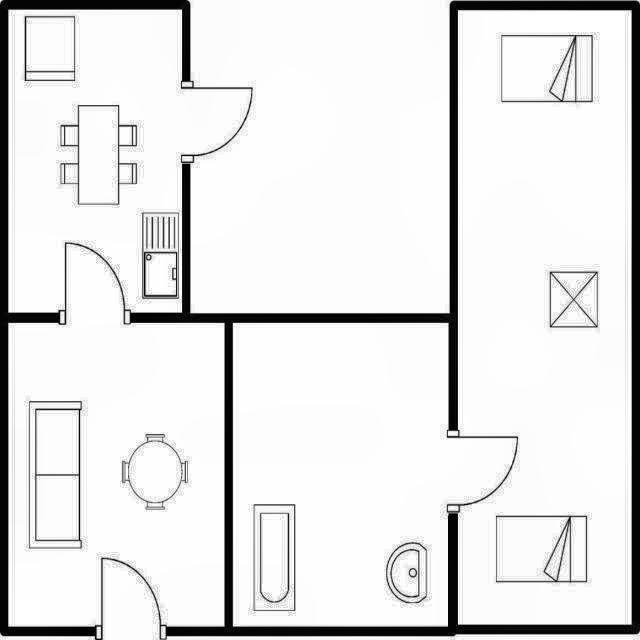room: (458, 10, 632, 625), (8, 323, 225, 627), (233, 323, 448, 627), (8, 9, 182, 313)
